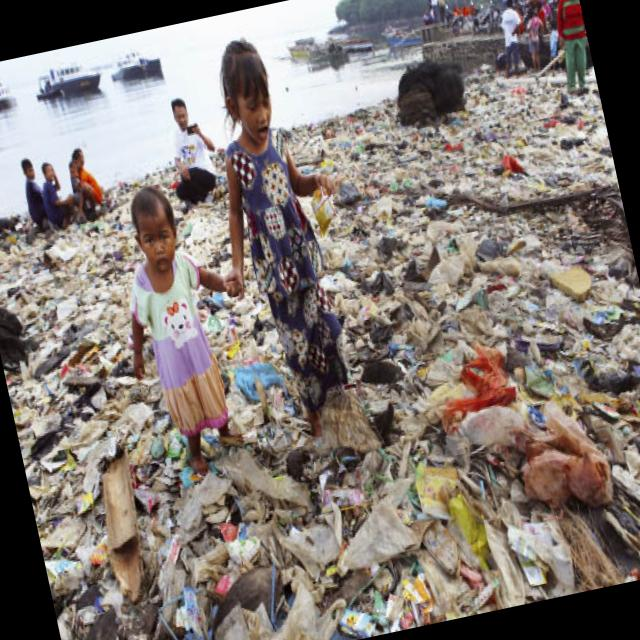garbage: (312, 74, 640, 626), (26, 400, 412, 640), (0, 225, 200, 640)
